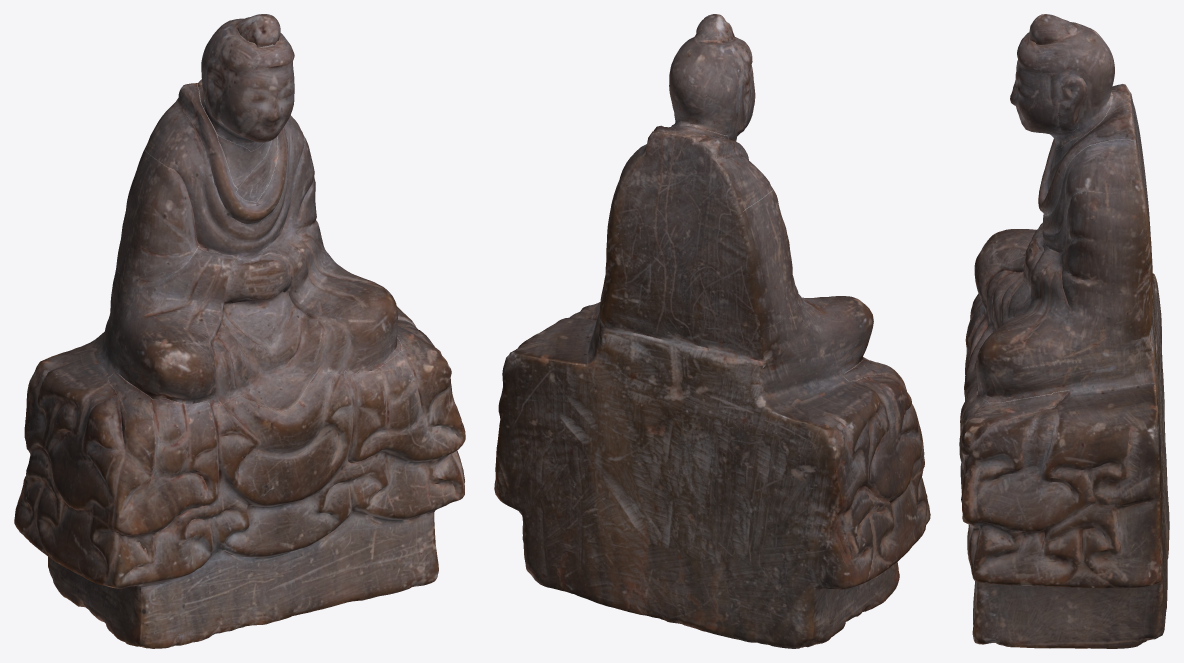
The model's file is mno000435-30004.obj.
3 renders of one model, left to right at view 1: azimuth 30°, elevation 25°; view 2: azimuth 150°, elevation 25°; view 3: azimuth 270°, elevation 25°, orthographic. The views are drawn at different scales.
Visible parts, largest first — view 1: mno000435-30004; view 2: mno000435-30004; view 3: mno000435-30004.
Boxes of the visible parts, left/top/right/bottom form: mno000435-30004: left=14, top=14, right=465, bottom=648; mno000435-30004: left=494, top=14, right=930, bottom=648; mno000435-30004: left=959, top=14, right=1169, bottom=648.
Size of the model in its own units: 92.26 by 134 by 45.04.
1 material, 1 textured.
